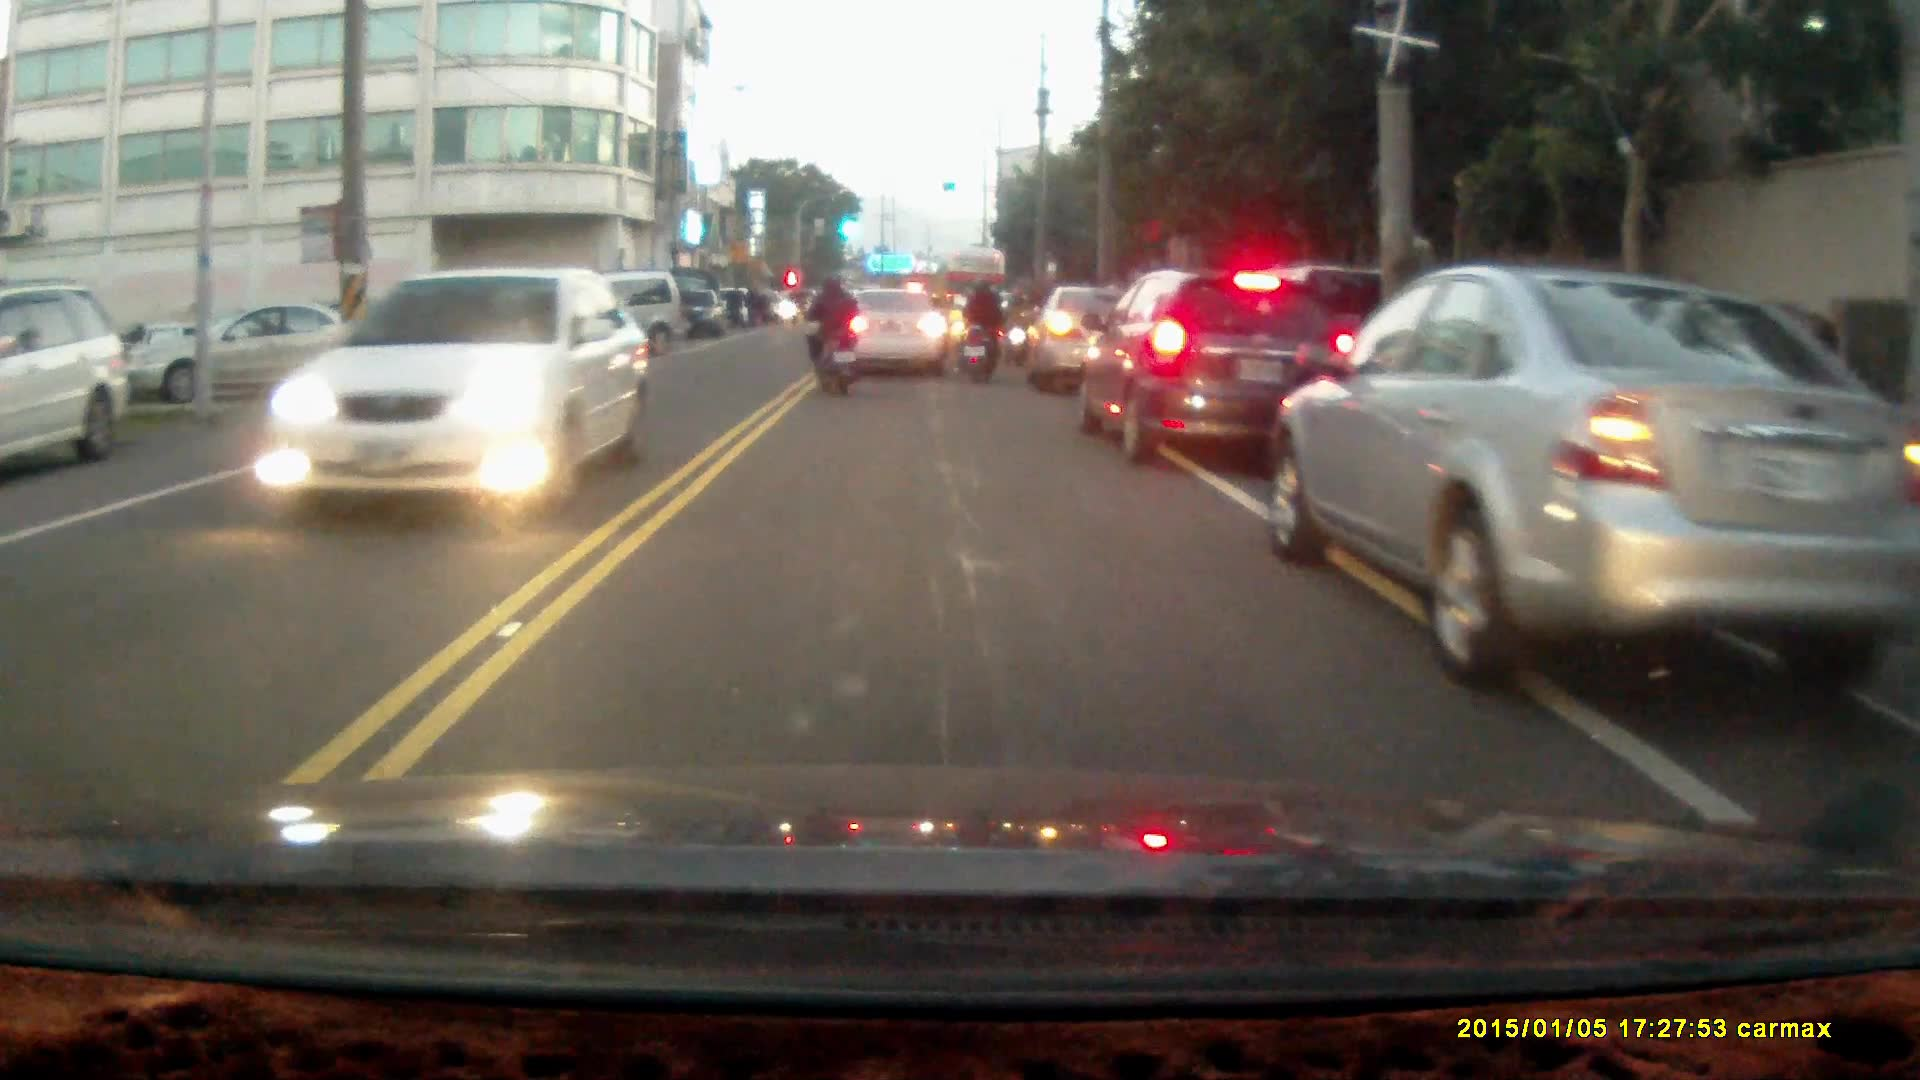rider: (801, 274, 860, 398), (956, 275, 1010, 382)
vehicle: (1279, 264, 1912, 685), (266, 268, 644, 517), (1074, 268, 1357, 468), (124, 299, 382, 404), (1, 284, 127, 476), (1018, 284, 1146, 398), (834, 288, 948, 383), (671, 290, 729, 341)
